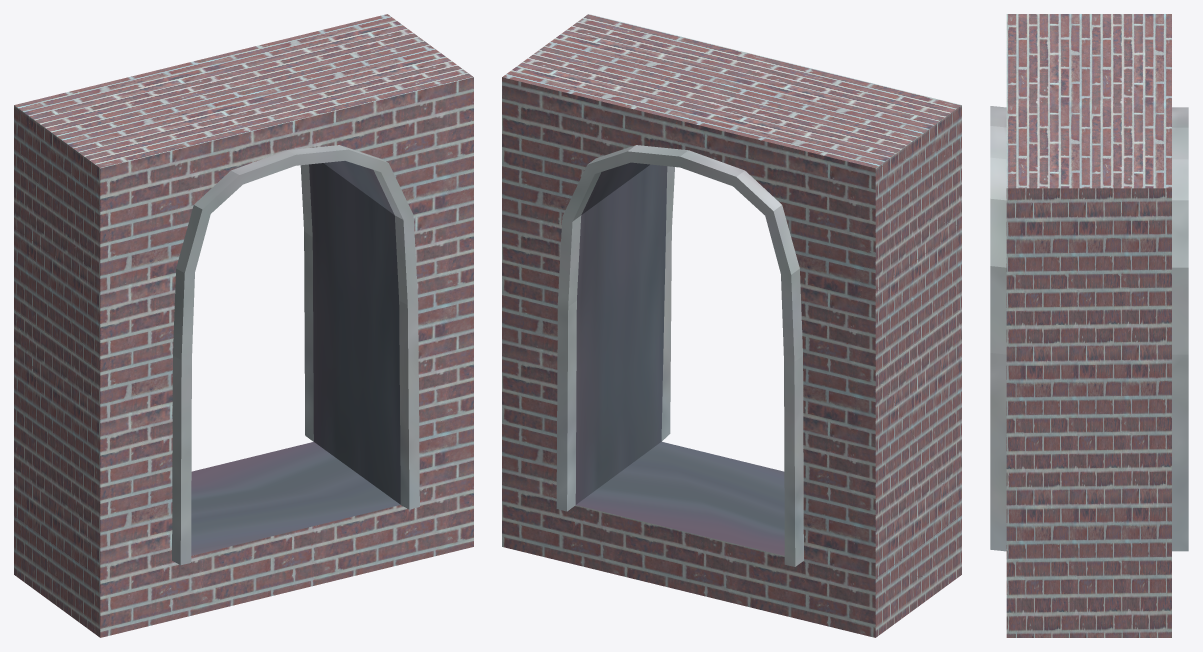
File: tunnel entrance.fbx
3 views of the same model, side by side, from view 1: azimuth 30°, elevation 25°; view 2: azimuth 150°, elevation 25°; view 3: azimuth 270°, elevation 25° (orthographic). The views are drawn at different scales.
Parts seen in each view (by area): view 1: Cube; view 2: Cube; view 3: Cube.
Part boxes in pixels (x1,y1,x2,y2): Cube: (14, 14, 473, 637); Cube: (502, 14, 961, 637); Cube: (990, 14, 1188, 637).
Bounding box in the file's own units: 200 × 240 × 96.21.
